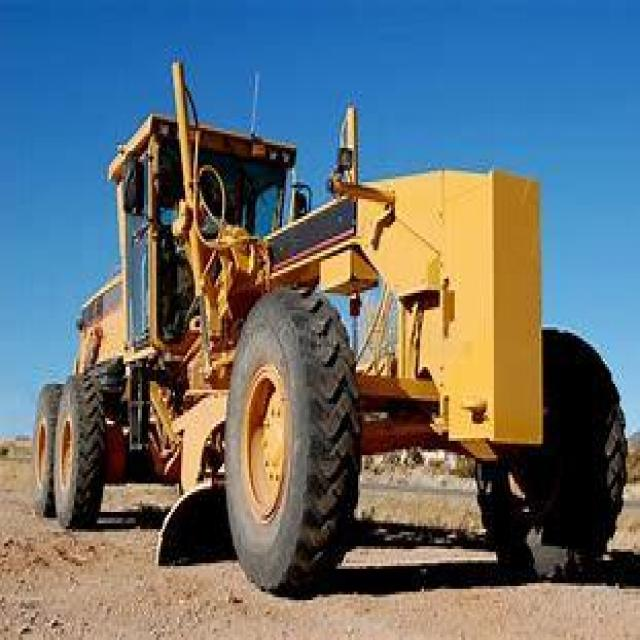Grader: (37, 105, 634, 589)
